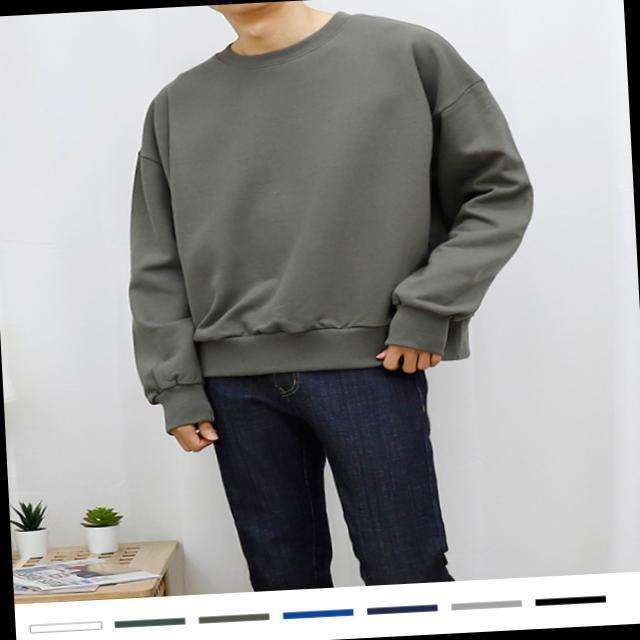sweater: (123, 8, 535, 435)
trousers: (198, 354, 458, 594)
